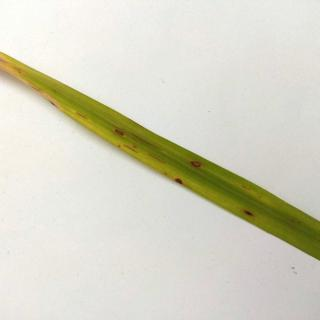Blast: (92, 111, 140, 159), (162, 151, 215, 189), (230, 195, 267, 235)
